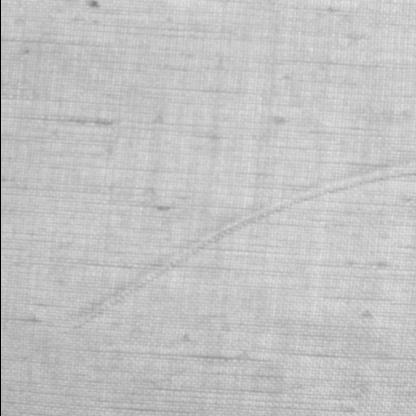objects: (75, 171, 415, 331)
